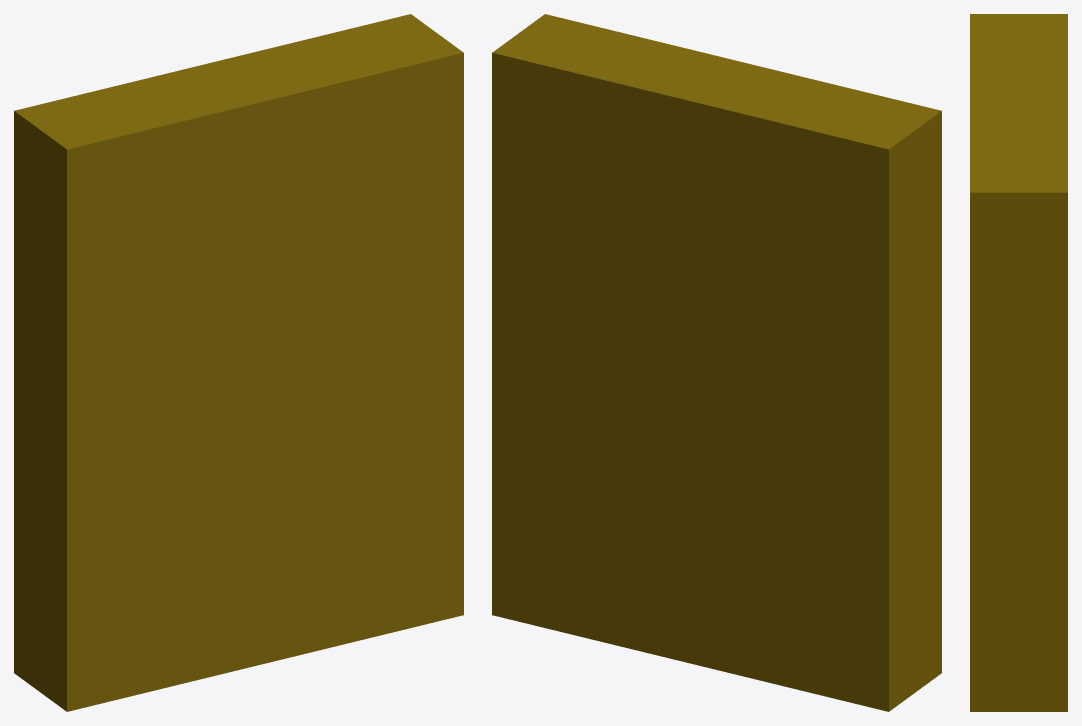
File: target_broken.DAE
The picture shows the model from 3 angles, left to right: view 1: azimuth 30°, elevation 25°; view 2: azimuth 150°, elevation 25°; view 3: azimuth 270°, elevation 25°; orthographic projection. The views are drawn at different scales.
Parts seen in each view (by area): view 1: bounds; view 2: bounds; view 3: bounds.
Part boxes in pixels (bbox=[...]): bounds: bbox=[14, 14, 463, 711]; bounds: bbox=[492, 14, 941, 711]; bounds: bbox=[970, 14, 1067, 711].
Bounding box in the file's own units: 2.34 × 0.5421 × 3.18.
